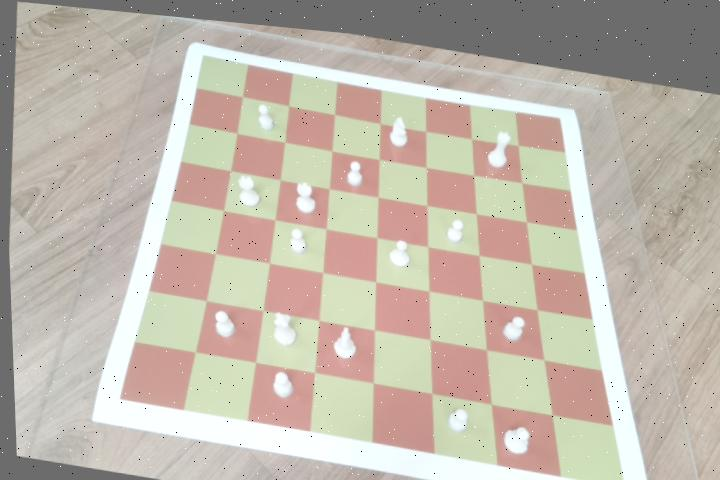chessboard-detect: (114, 49, 622, 473)
